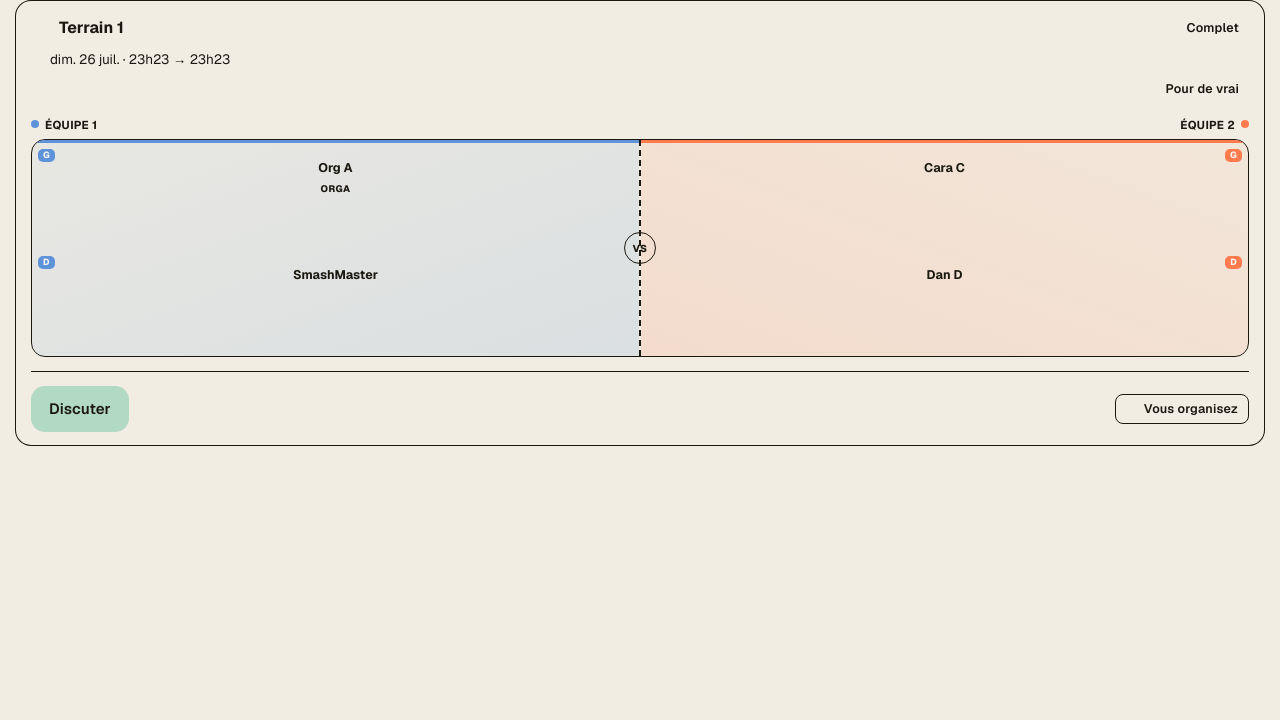
Test case: OpenMatchCard › feuille « Remplacer » : l’en-tête utilise le pseudo du joueur remplacé
Click the button with aria-label "Modifier SmashMaster" at (336, 274), box [32,250,639,356]
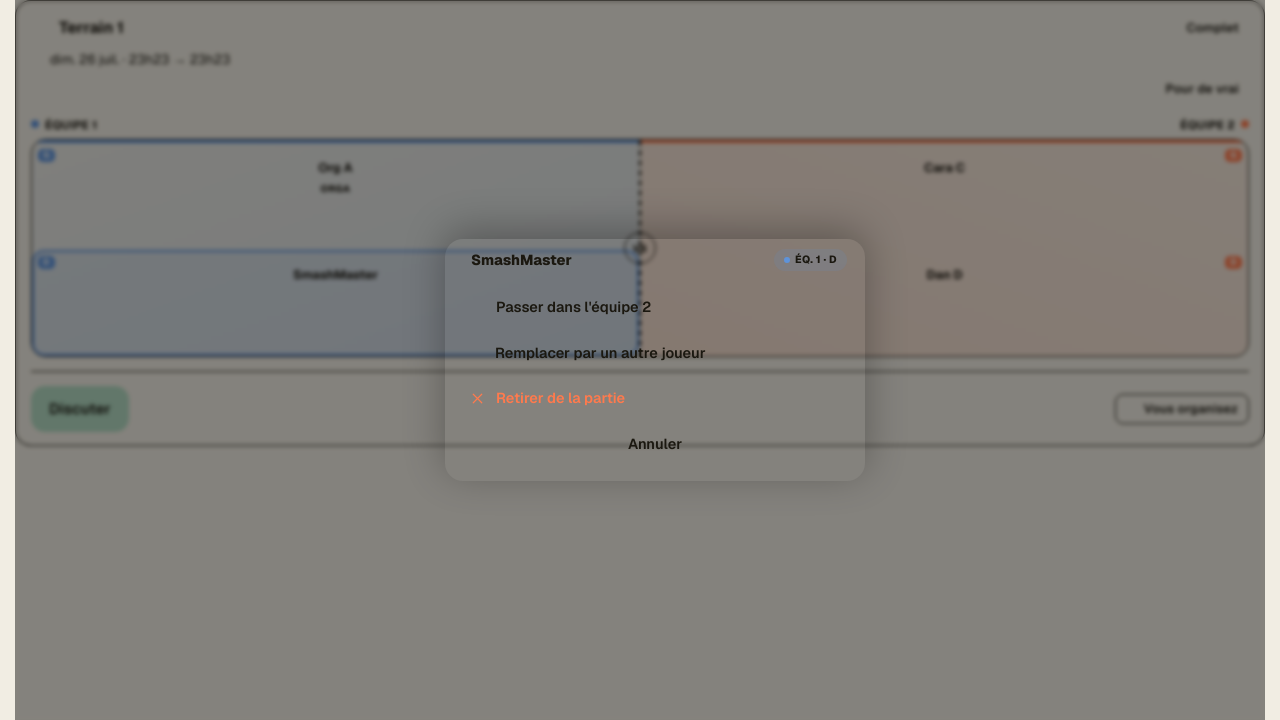
Click the button "Remplacer par un autre joueur" at (655, 352), box [459,330,851,375]
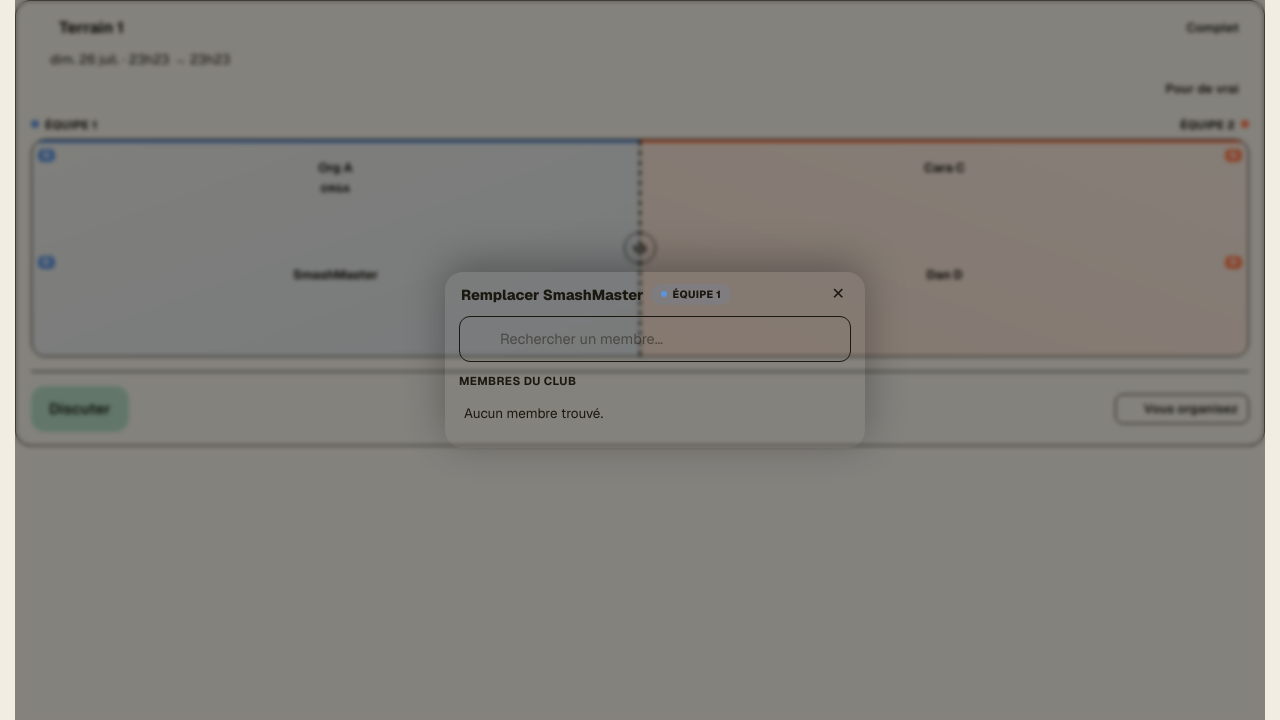
expect the dialog "Remplacer SmashMaster" is shown: met, box [445,272,865,448]
